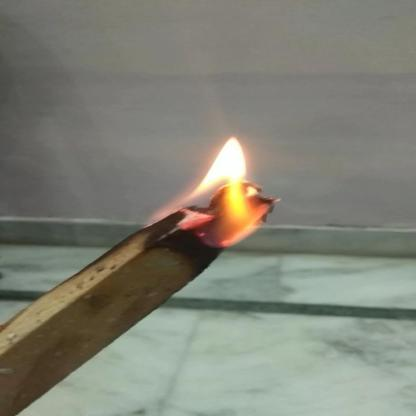fire: (150, 134, 292, 248)
